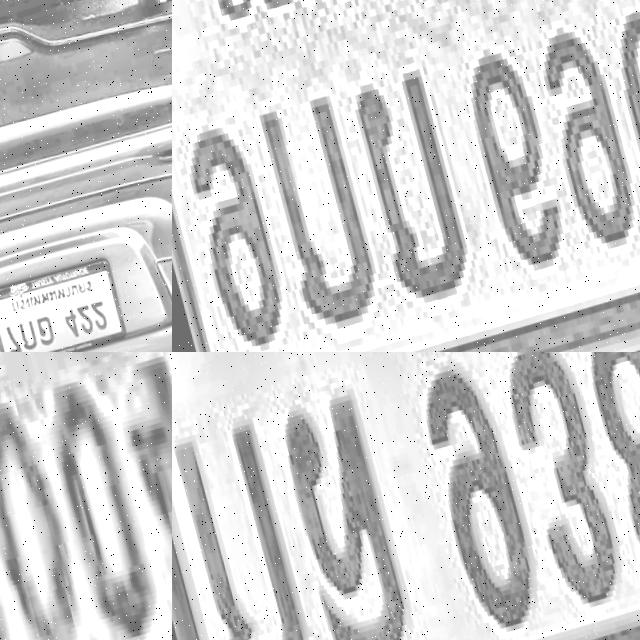license-plate: (172, 0, 640, 352), (172, 352, 640, 640), (0, 352, 172, 640), (0, 264, 126, 352)
